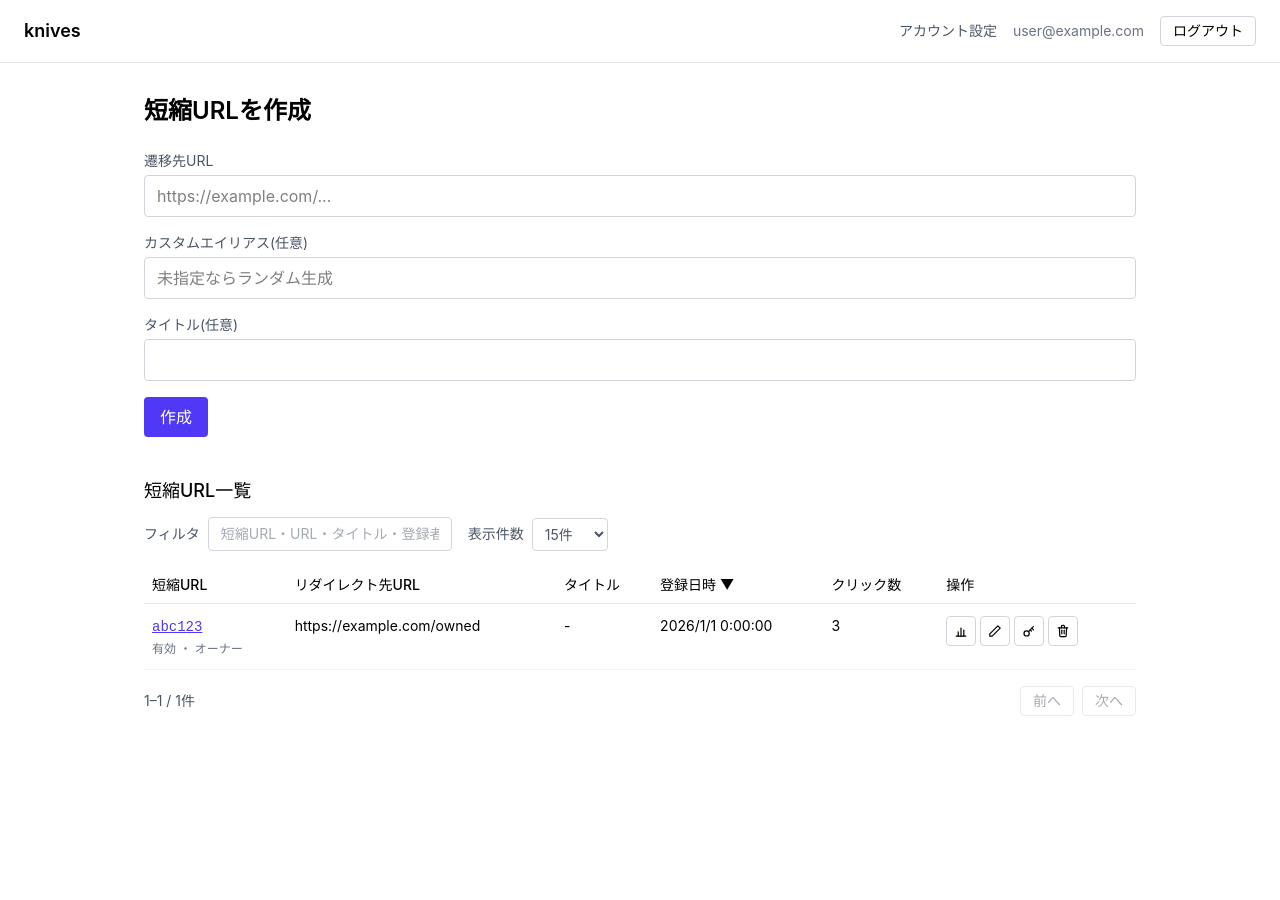
Test case: DashboardPage › toggles sort direction when a column header is clicked
Expected: the link "abc123" is shown, [152,619,202,635]
Click the button "クリック数": click(866, 585) [831,575,901,595]
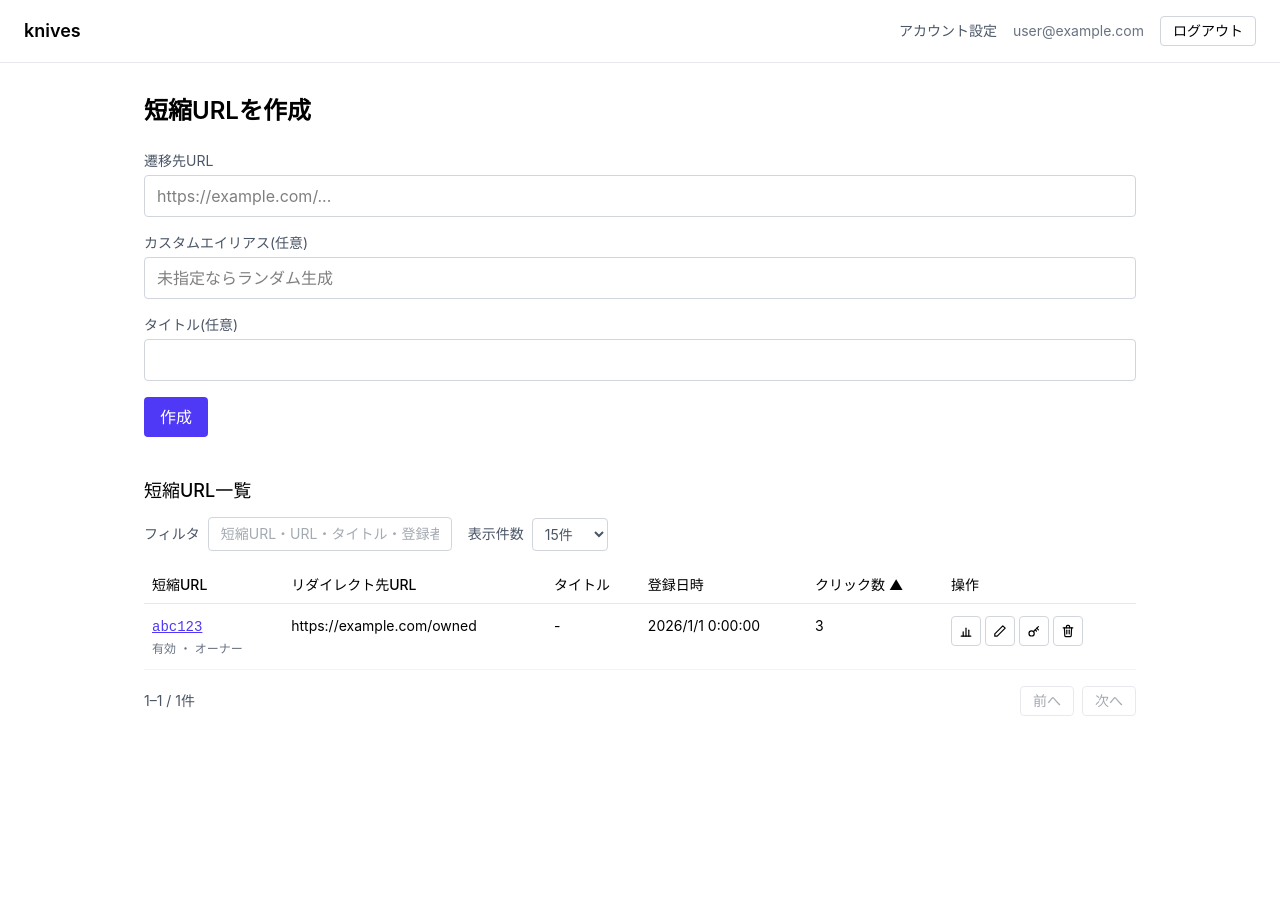
Expected: the button "クリック数 ▲" is shown, [815,575,903,595]
